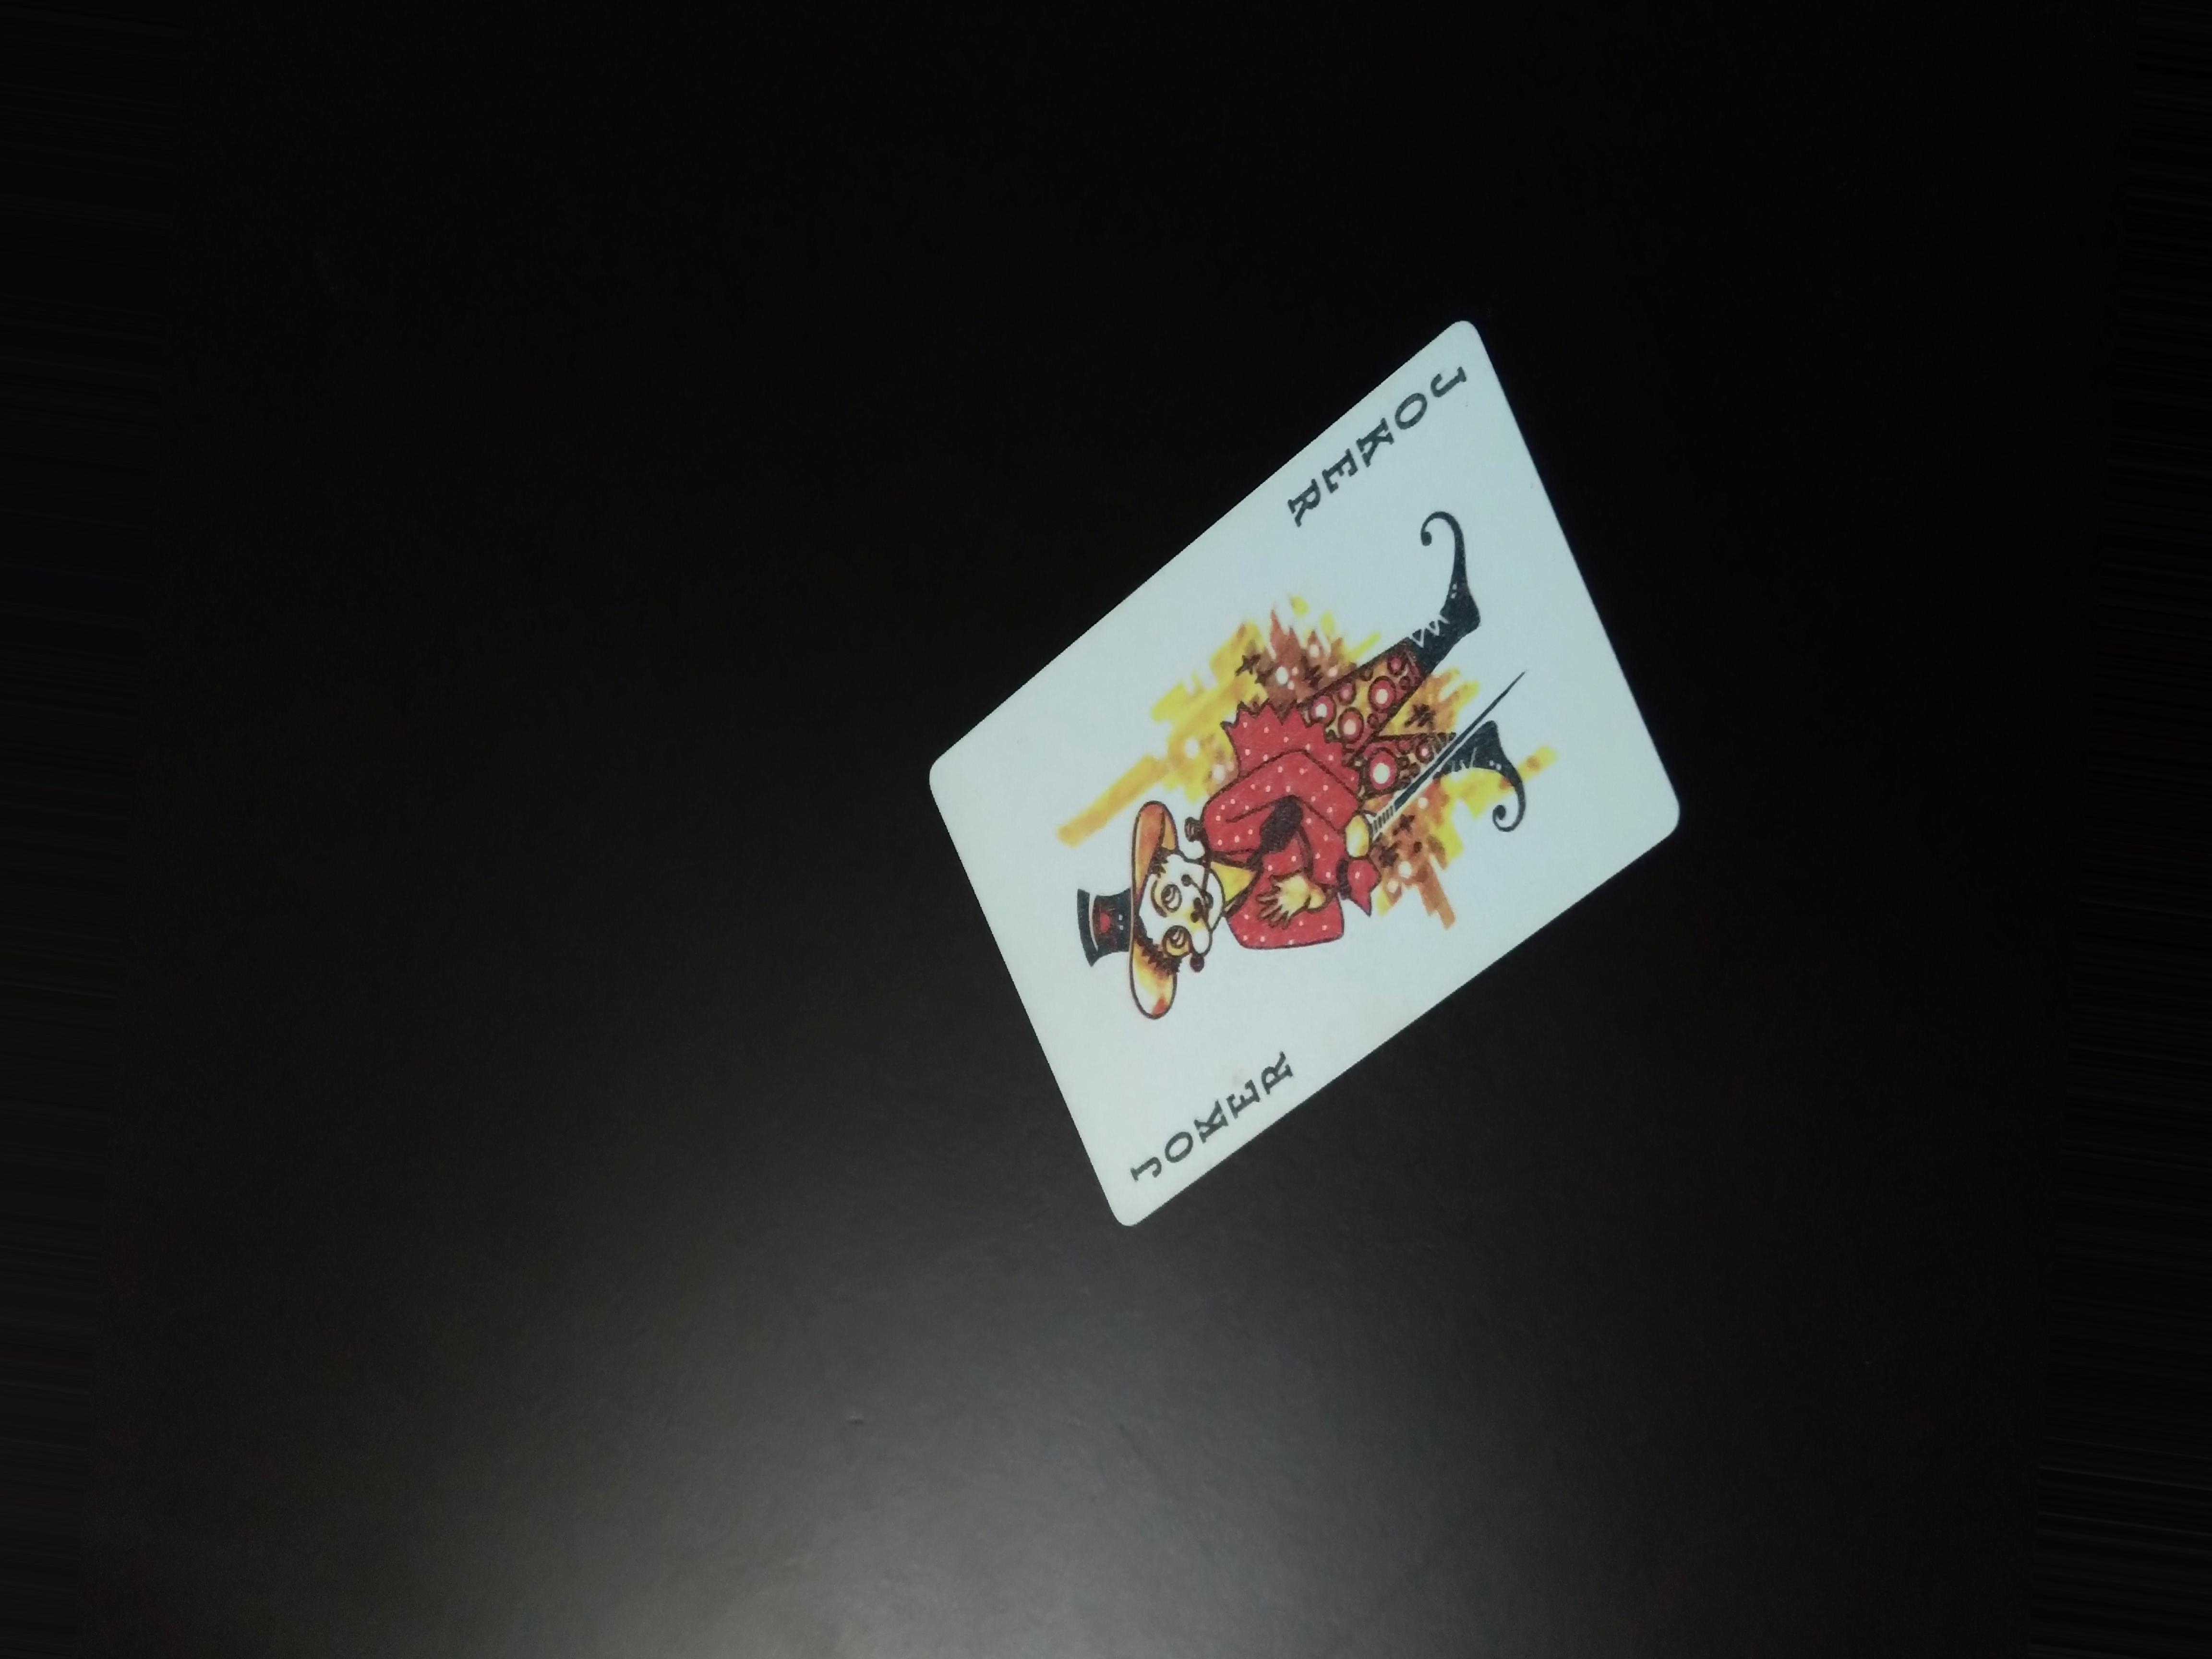JOKER: (1301, 342, 1480, 538)
